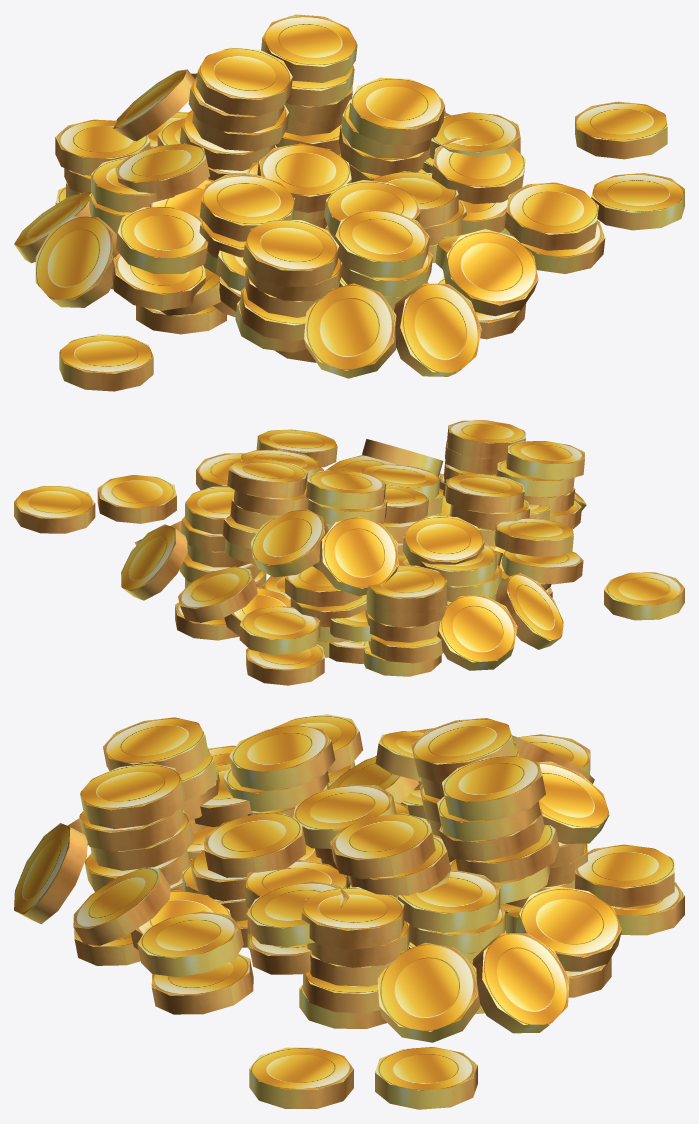
The model's file is gold_coins.FBX.
3 views of the same model, one above another, from view 1: azimuth 30°, elevation 25°; view 2: azimuth 150°, elevation 25°; view 3: azimuth 270°, elevation 25° (orthographic). The views are drawn at different scales.
Parts seen in each view (by area): view 1: gold_coins; view 2: gold_coins; view 3: gold_coins.
Part boxes in pixels (x1,y1,x2,y2): gold_coins: (14,14,684,391); gold_coins: (14,420,684,685); gold_coins: (14,714,684,1109).
Size of the model in its own units: 3.31 by 0.796 by 2.56.
Materials: 1 (1 with a texture image).
